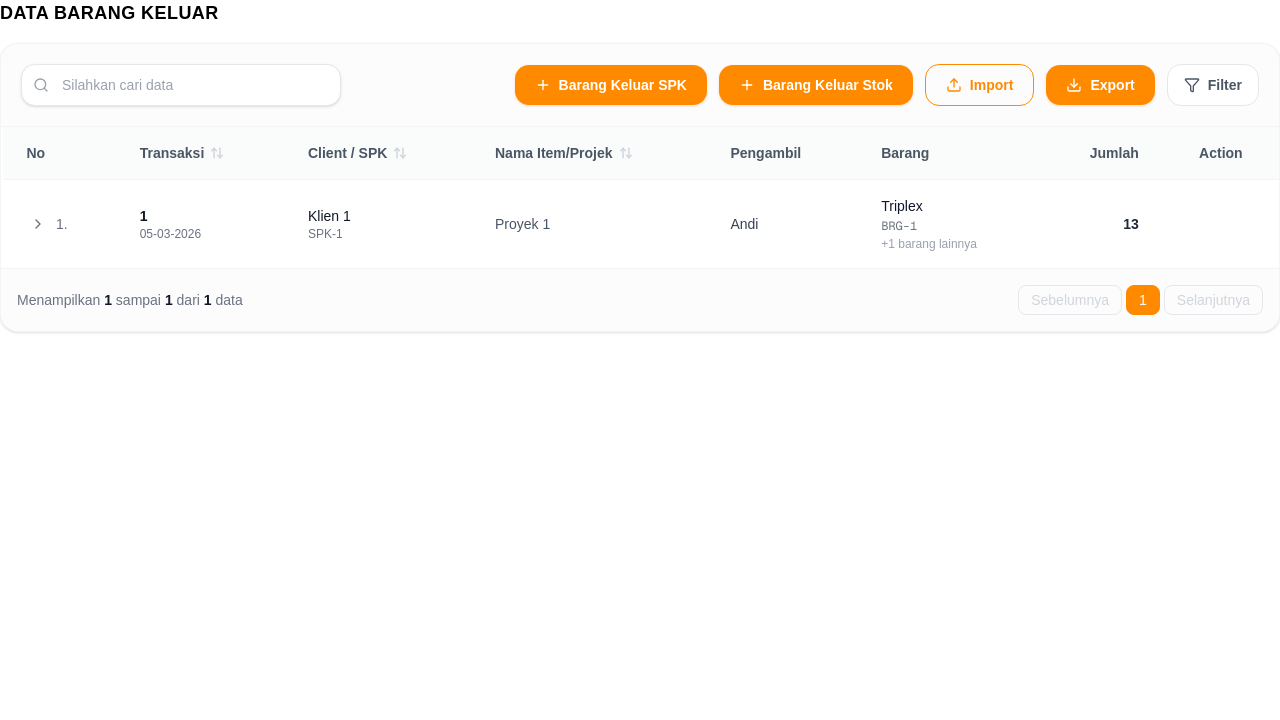
BarangKeluar list › opens the rincian pop-up from the transaction number with every line and the edit status
// The number, the Nama Item/Projek and the Barang name all open the same pop-up
Click the button named "Lihat rincian 1". click: (144, 216)
box: [140,206,148,226]
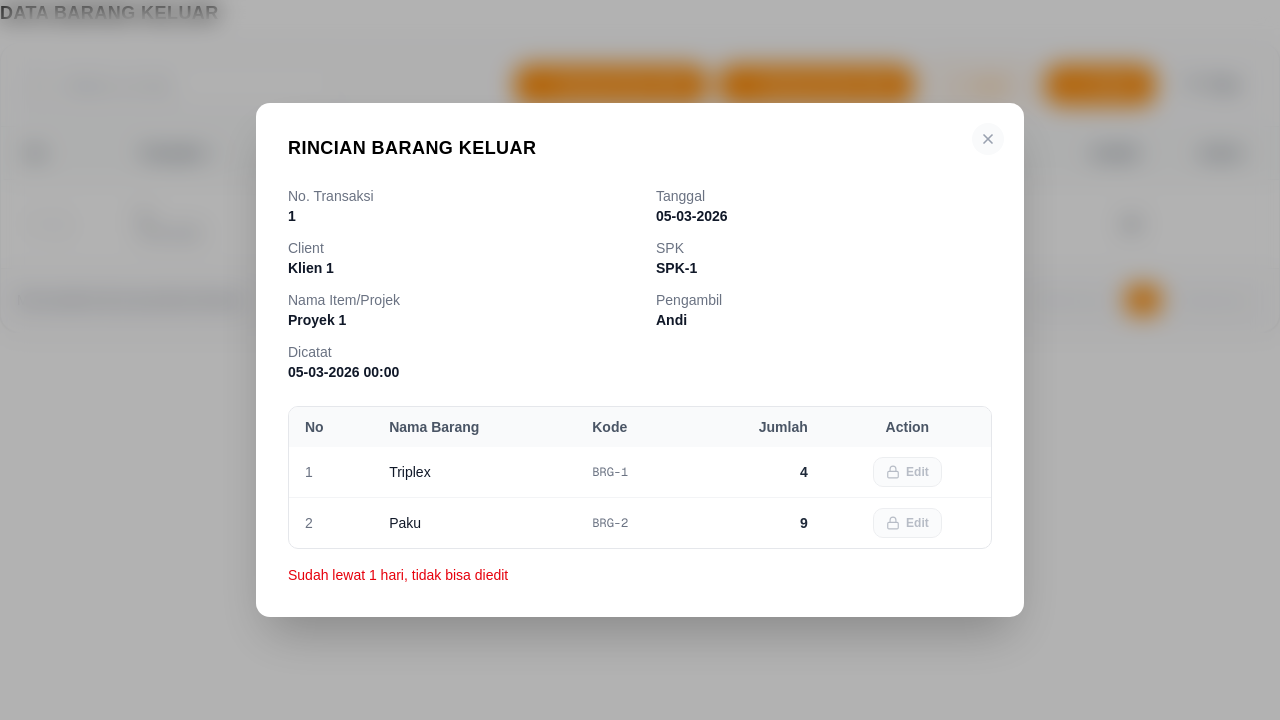
Now the text "Triplex" is shown, box [373,447,576,498]
Now the text "Paku" is shown, box [373,498,576,548]
Now the text "Sudah lewat 1 hari, tidak bisa diedit" is shown, box [288,567,508,583]
Click the button named "Tutup rincian". click: (988, 139)
box: [972,123,1004,155]
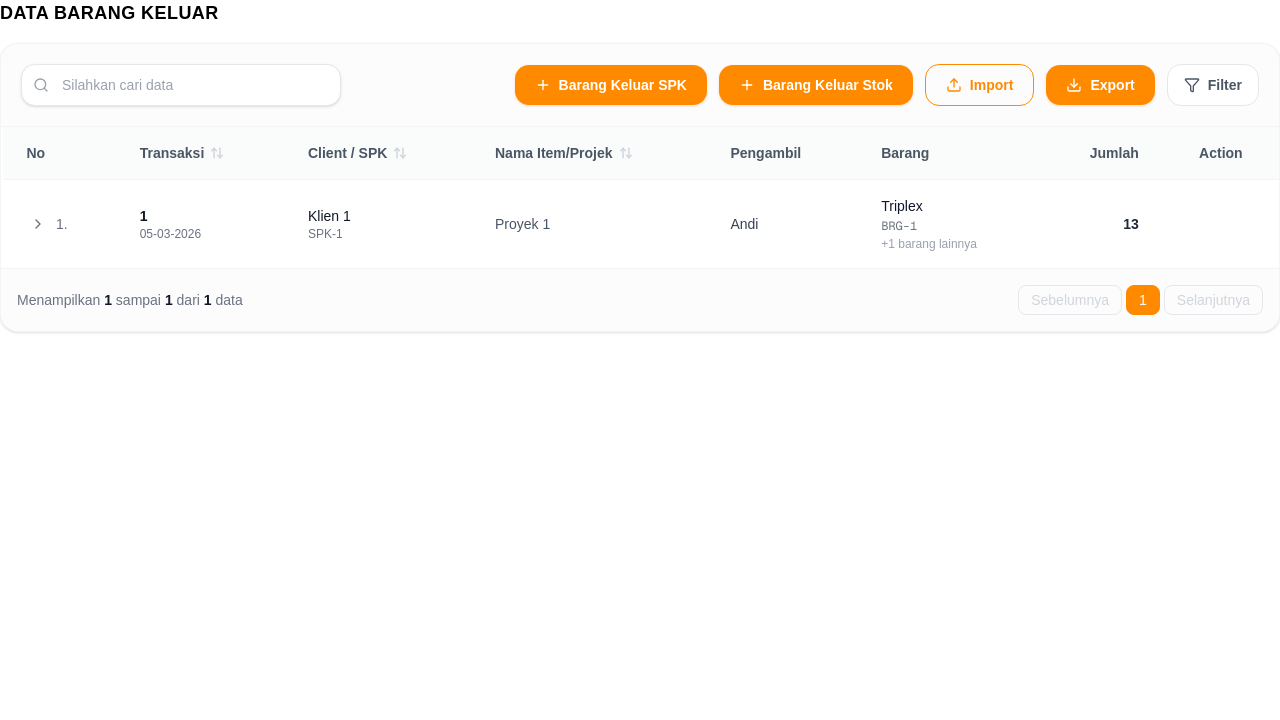
Now the dialog is gone
Click the button "Proyek 1". click: (523, 224)
box: [495,214,550,234]
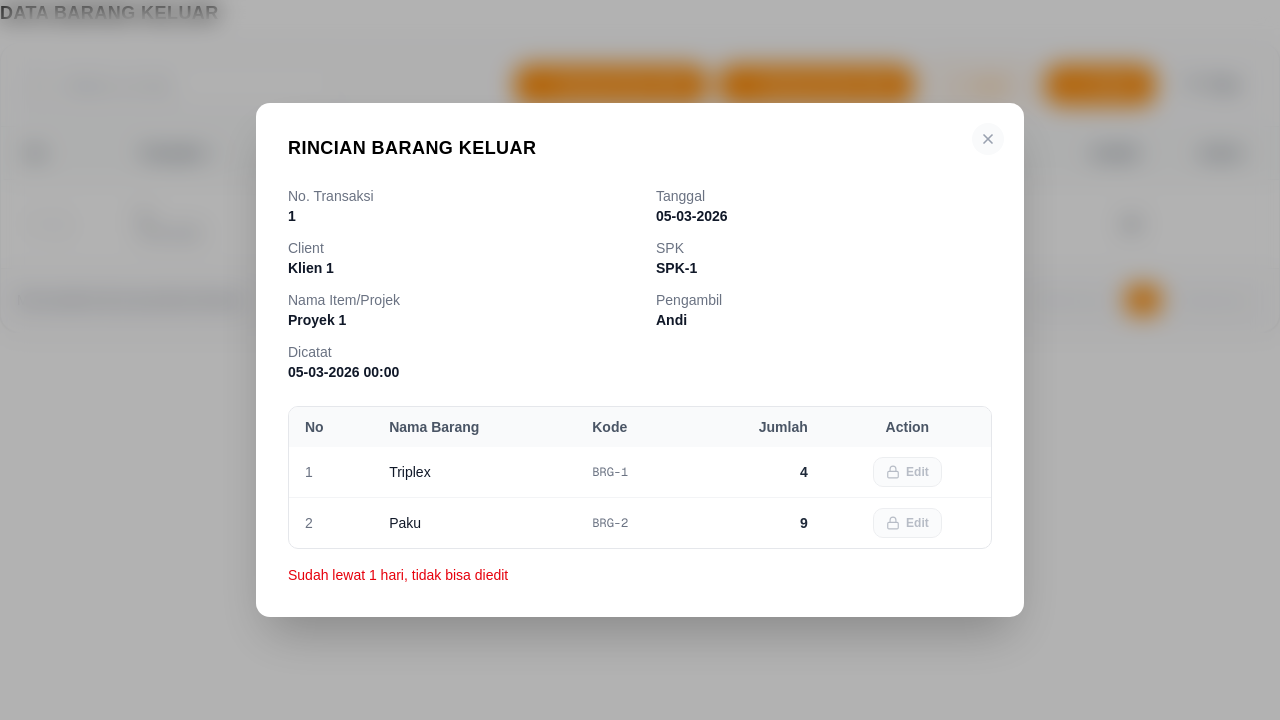
Now the dialog "Rincian Barang Keluar" is shown, box [256,103,1024,617]
